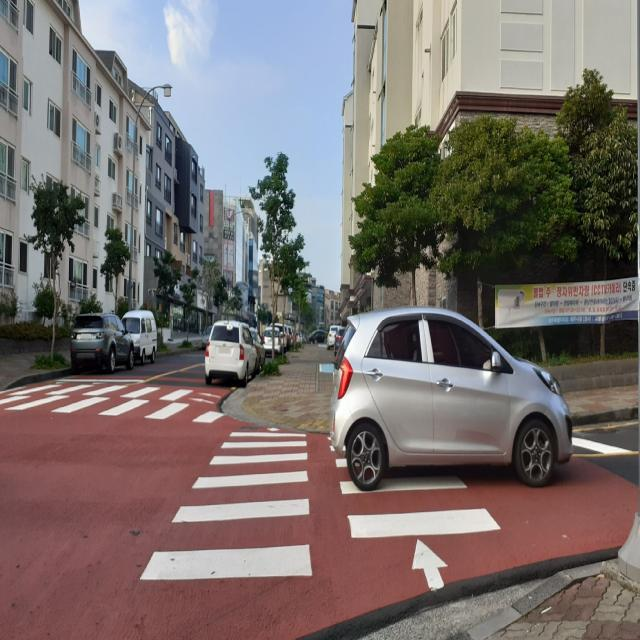횡단보도: (140, 428, 501, 590)
